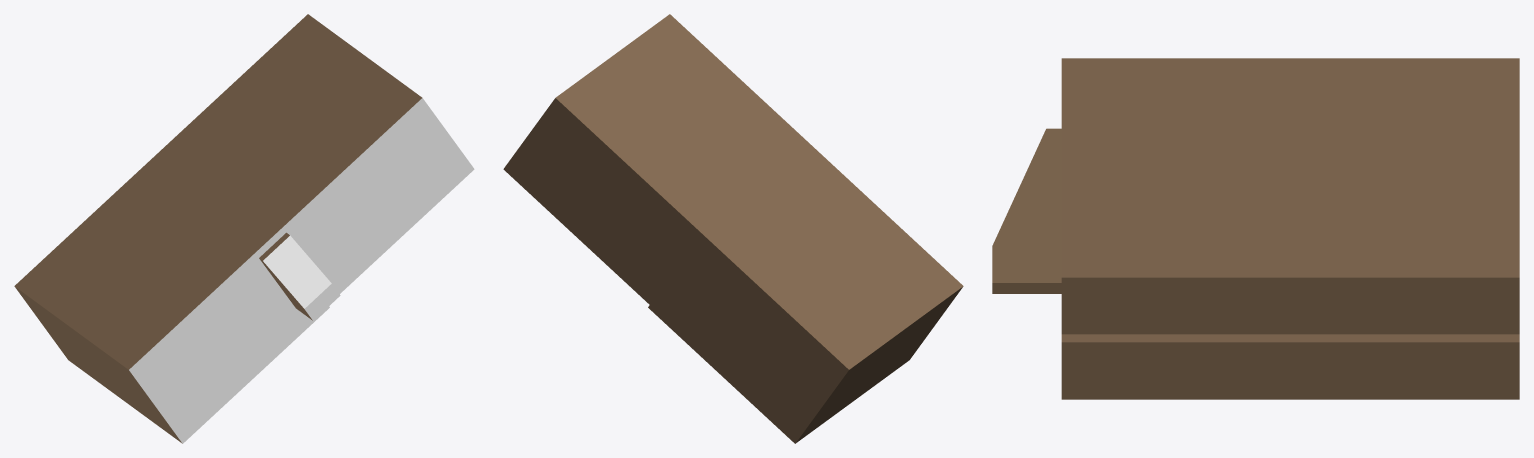
3 views of the same model, side by side, from view 1: azimuth 30°, elevation 25°; view 2: azimuth 150°, elevation 25°; view 3: azimuth 270°, elevation 25° (orthographic). The views are drawn at different scales.
Visible parts, largest first — view 1: City_1884826; view 2: City_1884826; view 3: City_1884826.
Boxes of the visible parts, bbox=[...] form: City_1884826: bbox=[14, 14, 474, 443]; City_1884826: bbox=[503, 14, 963, 443]; City_1884826: bbox=[992, 58, 1519, 399].
Bounding box in the file's own units: 2692 × 2140 × 1778.
